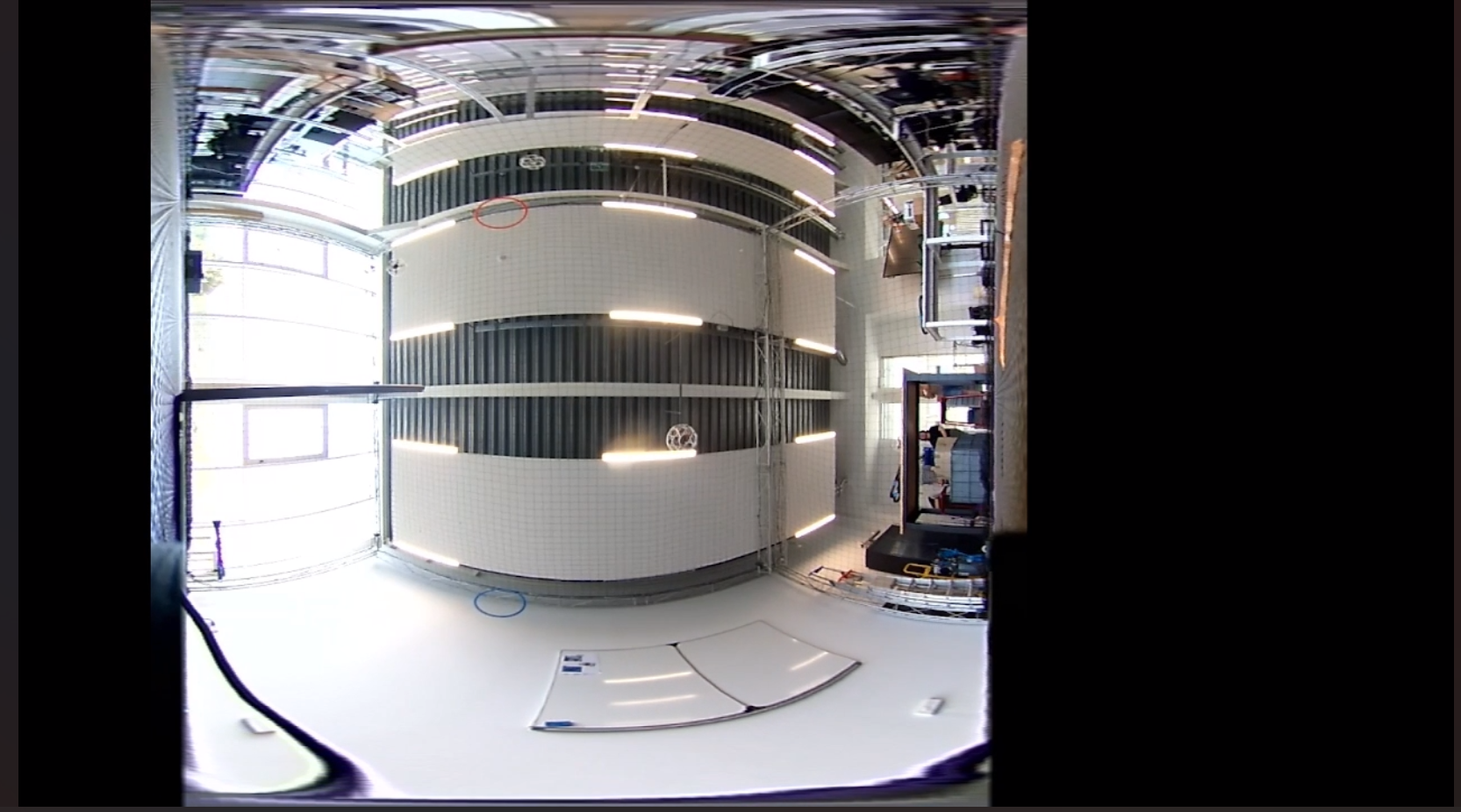Drone: (666, 424, 697, 454), (385, 258, 408, 278), (519, 154, 546, 171)
